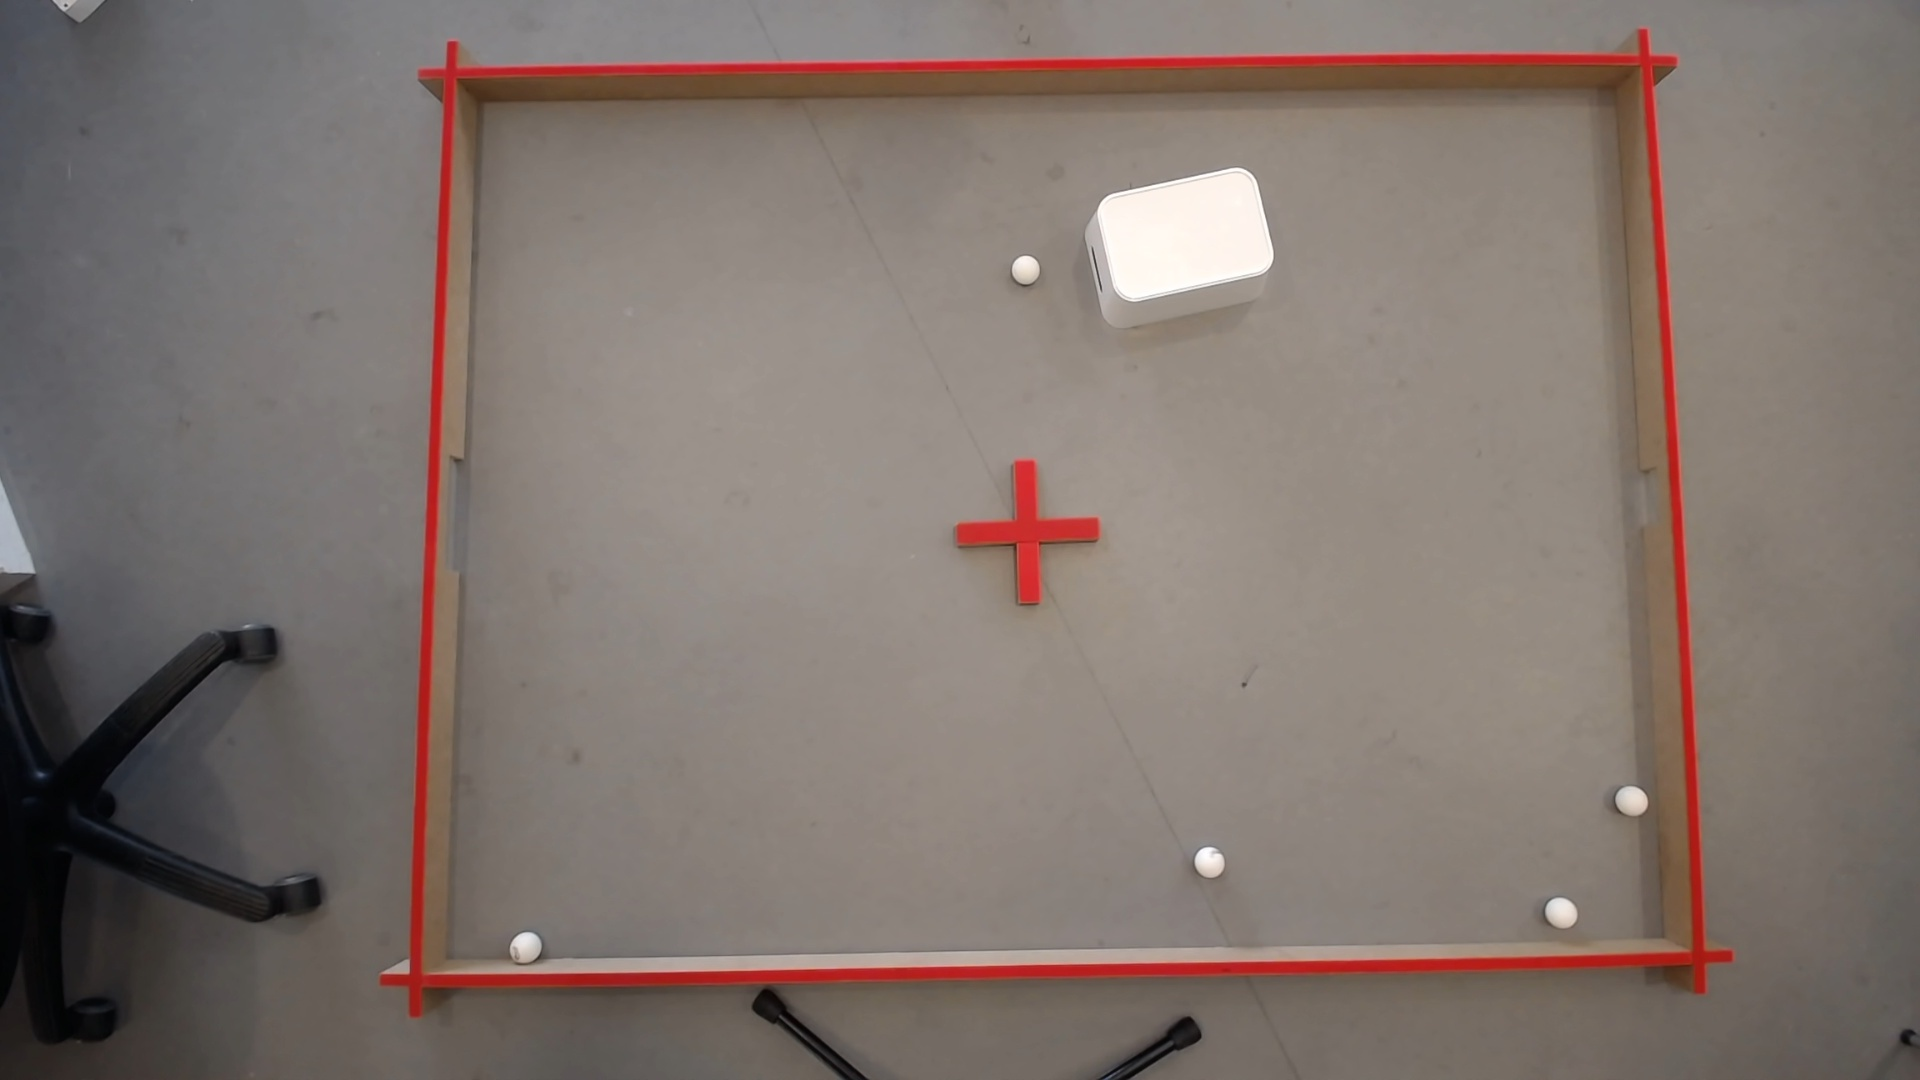balls: (1092, 161, 1278, 305), (1542, 891, 1580, 927), (1191, 841, 1228, 876), (509, 926, 541, 959), (1619, 786, 1646, 808)
car: (1009, 249, 1040, 281)
